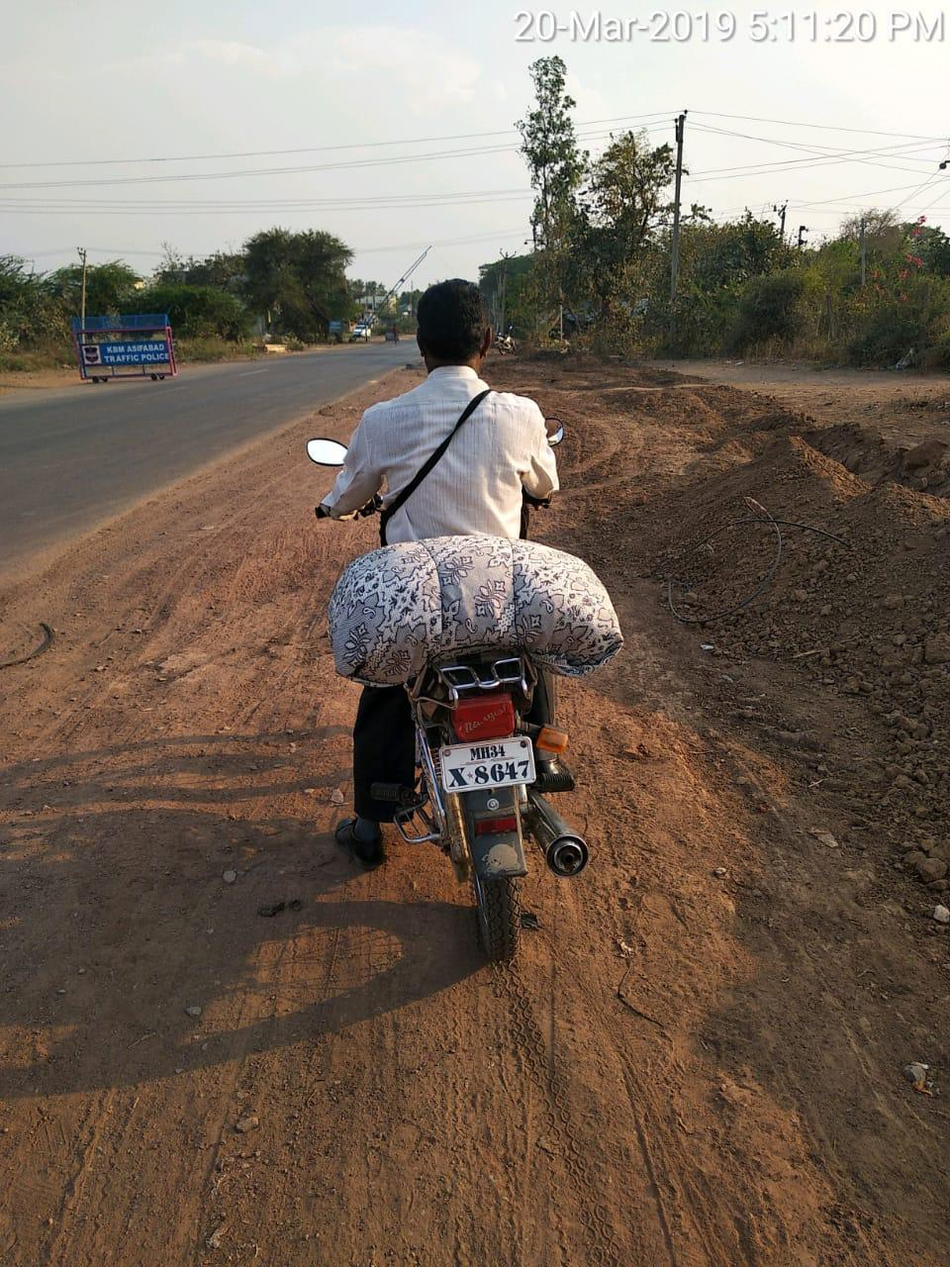plate: (422, 720, 550, 810)
